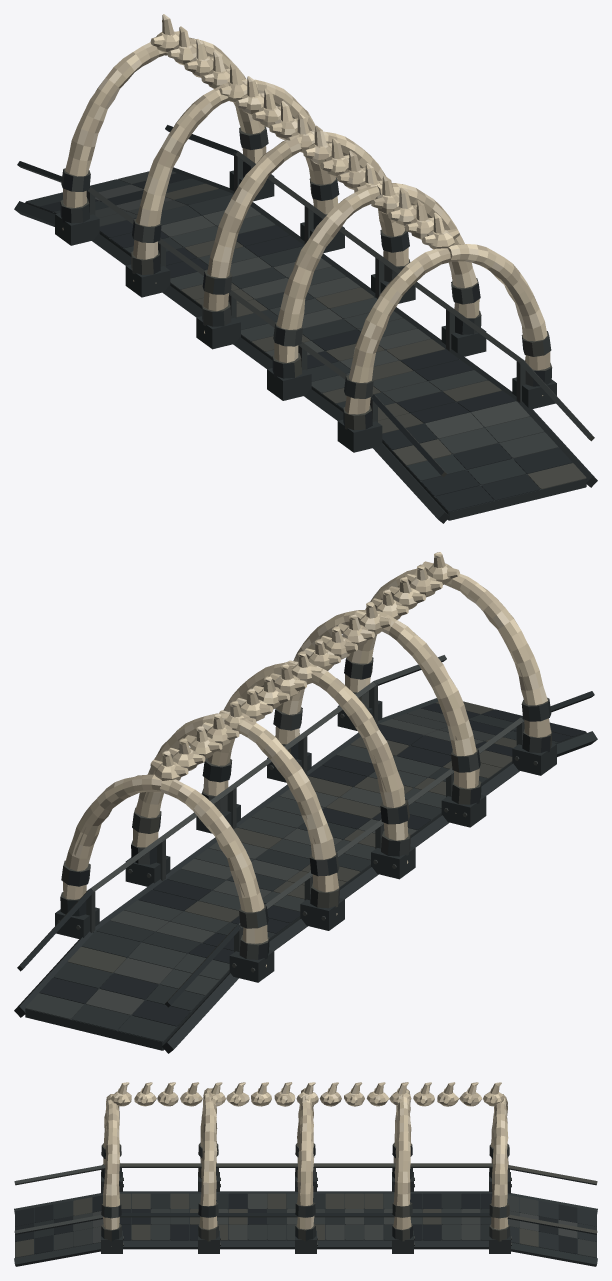
The model's file is area4-s2-rib-vault.glb.
3 views of the same model, one above another, from view 1: azimuth 30°, elevation 25°; view 2: azimuth 150°, elevation 25°; view 3: azimuth 270°, elevation 25° (orthographic). The views are drawn at different scales.
Visible parts, largest first — view 1: S2_IronDeckAndRails, S2_AncientRibs, S2_RibIronBindings; view 2: S2_IronDeckAndRails, S2_AncientRibs, S2_RibIronBindings; view 3: S2_IronDeckAndRails, S2_AncientRibs, S2_RibIronBindings.
Part boxes in pixels (bbox=[...]): S2_IronDeckAndRails: bbox=[14, 125, 597, 523]; S2_AncientRibs: bbox=[62, 14, 550, 414]; S2_RibIronBindings: bbox=[55, 126, 556, 452]; S2_IronDeckAndRails: bbox=[14, 655, 597, 1053]; S2_AncientRibs: bbox=[63, 552, 551, 967]; S2_RibIronBindings: bbox=[55, 657, 556, 982]; S2_IronDeckAndRails: bbox=[14, 1163, 597, 1266]; S2_AncientRibs: bbox=[102, 1082, 508, 1246]; S2_RibIronBindings: bbox=[101, 1142, 511, 1253].
Bounding box in the file's own units: 5.05 × 5.46 × 18.06.
